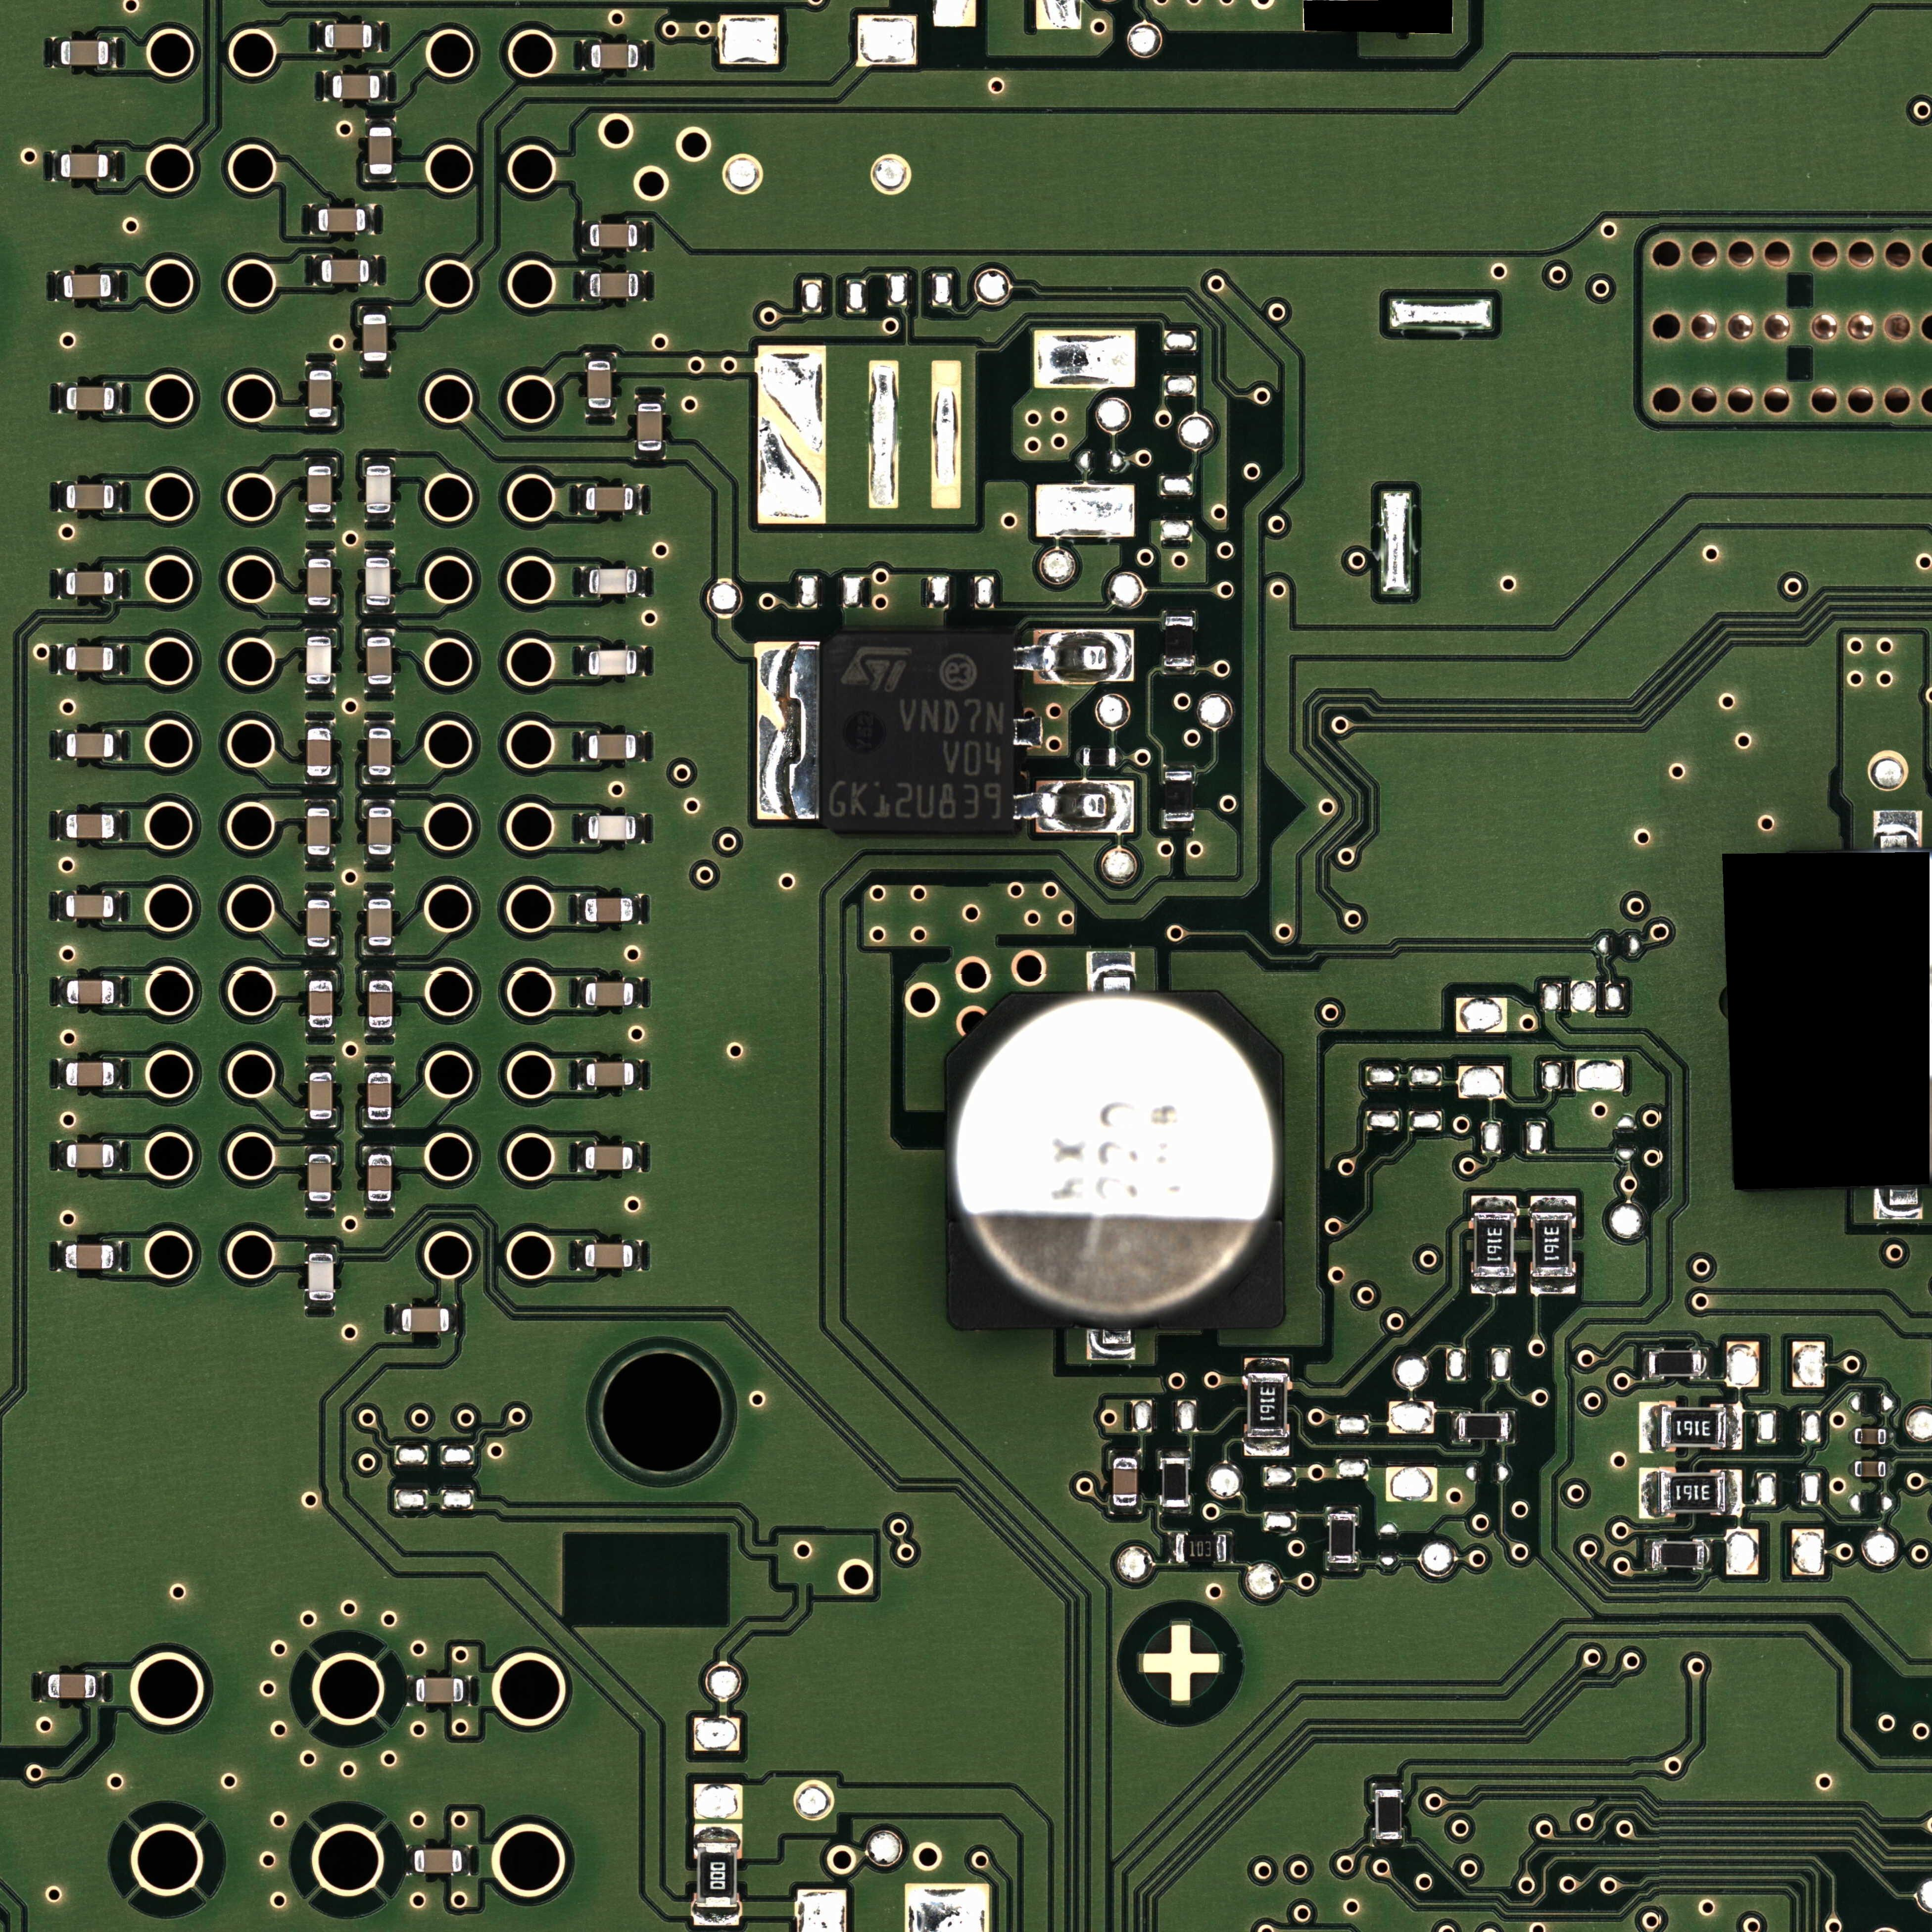Package: (946, 995, 1280, 1327), (818, 636, 1014, 831), (696, 1842, 737, 1908), (1659, 1473, 1726, 1513), (1532, 1212, 1573, 1277), (1247, 1373, 1288, 1438), (1661, 1407, 1726, 1448), (1473, 1213, 1514, 1277), (1165, 617, 1193, 667), (1652, 1542, 1704, 1568), (1175, 1535, 1226, 1562), (1649, 1351, 1701, 1377), (1164, 772, 1192, 821), (1459, 1414, 1508, 1440), (1162, 1458, 1188, 1507), (1376, 1790, 1401, 1839), (589, 273, 638, 298), (1330, 1514, 1355, 1563), (588, 650, 636, 676), (589, 569, 636, 594), (60, 41, 108, 66), (65, 1244, 113, 1269), (588, 734, 636, 760), (306, 636, 332, 684), (366, 466, 391, 513), (325, 24, 372, 49), (416, 1678, 463, 1703), (66, 814, 114, 839), (66, 386, 114, 411), (585, 487, 633, 512), (584, 898, 632, 922), (332, 75, 380, 99), (637, 403, 662, 451), (66, 1062, 114, 1087), (48, 1674, 96, 1699), (66, 647, 113, 672), (366, 558, 390, 605), (66, 484, 114, 509), (66, 733, 114, 758), (591, 44, 638, 69), (307, 728, 332, 776), (67, 1144, 114, 1168), (1112, 1458, 1137, 1505), (321, 259, 369, 284), (589, 224, 637, 248), (63, 274, 111, 298), (60, 154, 108, 178), (585, 1146, 633, 1170), (585, 982, 633, 1007), (588, 816, 635, 840), (367, 637, 391, 684), (67, 980, 114, 1005), (308, 980, 333, 1027), (401, 1308, 449, 1332), (586, 1062, 633, 1086), (309, 1254, 334, 1300), (66, 572, 114, 595), (414, 1849, 462, 1873), (585, 1244, 633, 1268), (307, 559, 332, 606), (368, 899, 392, 946), (368, 808, 392, 855), (367, 1073, 391, 1120), (368, 980, 392, 1027), (66, 895, 113, 918), (318, 208, 365, 232), (368, 728, 391, 776), (363, 315, 387, 361), (307, 466, 332, 513), (368, 128, 392, 174), (368, 1155, 392, 1201), (307, 900, 331, 947), (308, 370, 332, 417), (587, 361, 611, 408), (307, 808, 331, 855), (309, 1072, 333, 1119), (308, 1154, 332, 1201), (1083, 748, 1115, 766), (1855, 1428, 1886, 1445), (1855, 1461, 1886, 1477)
Solder: (757, 641, 819, 820), (1015, 779, 1133, 834), (1016, 629, 1133, 683), (1086, 952, 1136, 990), (1874, 811, 1921, 847), (1875, 1187, 1922, 1219), (1087, 1329, 1135, 1360), (1639, 1401, 1660, 1453), (1640, 1468, 1659, 1518), (694, 1824, 742, 1842), (692, 1908, 740, 1926), (1244, 1439, 1290, 1456), (1530, 1278, 1576, 1295), (1471, 1195, 1517, 1212), (1530, 1196, 1576, 1212), (1471, 1278, 1516, 1294), (1014, 719, 1042, 745), (1727, 1403, 1742, 1450), (1726, 1469, 1742, 1516), (1244, 1357, 1290, 1373), (1325, 1563, 1359, 1572), (305, 970, 336, 980), (372, 22, 383, 51), (364, 970, 394, 980), (1166, 1532, 1176, 1563), (1109, 1505, 1142, 1515), (360, 362, 390, 372), (312, 255, 322, 286), (633, 894, 643, 925), (633, 484, 643, 515), (636, 731, 646, 762), (633, 1142, 643, 1173), (308, 205, 318, 234), (315, 21, 325, 51), (53, 271, 63, 301), (462, 1846, 472, 1876), (38, 1671, 48, 1701), (636, 814, 646, 844), (304, 628, 336, 637), (304, 684, 336, 694), (323, 70, 332, 101), (305, 513, 336, 523), (364, 855, 395, 865), (364, 514, 395, 523), (634, 394, 666, 403), (576, 893, 585, 924), (305, 361, 336, 370), (633, 1241, 642, 1271), (363, 946, 395, 955), (633, 979, 643, 1008), (366, 205, 375, 235), (369, 256, 379, 286), (305, 799, 335, 808), (364, 457, 395, 466), (304, 550, 336, 559), (305, 1028, 337, 1037), (585, 409, 616, 418), (577, 1059, 586, 1090), (1163, 821, 1195, 830), (305, 457, 336, 466), (304, 856, 335, 865), (364, 628, 394, 637), (364, 799, 394, 808), (576, 1240, 585, 1270), (577, 1142, 585, 1172), (1508, 1412, 1517, 1443), (305, 418, 338, 426), (634, 451, 666, 460), (1110, 1449, 1142, 1457), (305, 891, 335, 900), (365, 685, 395, 694), (96, 1672, 105, 1702), (407, 1675, 416, 1705), (114, 382, 123, 414), (364, 175, 396, 183), (304, 776, 336, 784), (363, 776, 395, 784), (304, 947, 336, 956), (305, 1120, 337, 1128), (1159, 1449, 1191, 1457), (634, 1061, 643, 1090), (52, 150, 60, 181), (305, 1146, 336, 1154), (364, 1028, 395, 1037), (580, 730, 588, 762), (360, 306, 390, 314), (57, 383, 66, 414), (57, 729, 66, 760), (305, 1301, 336, 1309), (363, 1146, 394, 1154), (393, 1304, 401, 1334), (364, 1202, 394, 1210), (58, 1140, 66, 1171), (1163, 668, 1194, 676), (1372, 1781, 1403, 1789), (1643, 1540, 1652, 1570), (363, 1120, 395, 1128), (305, 720, 335, 728), (57, 810, 66, 840), (580, 813, 588, 843), (1160, 1507, 1190, 1515), (1704, 1539, 1712, 1571), (52, 38, 60, 67), (366, 118, 395, 127), (380, 71, 388, 101), (364, 891, 394, 899), (305, 1202, 335, 1210), (1226, 1533, 1235, 1562), (111, 270, 119, 301), (305, 606, 336, 614), (363, 606, 394, 614), (305, 1245, 336, 1253), (585, 352, 616, 360), (636, 646, 644, 677), (578, 977, 585, 1008), (1701, 1348, 1709, 1379), (58, 977, 67, 1006), (364, 1064, 395, 1072), (57, 1241, 65, 1271), (581, 221, 589, 251), (1641, 1349, 1649, 1380), (364, 720, 394, 728), (364, 550, 394, 558), (305, 1064, 336, 1072), (58, 1059, 66, 1089), (1163, 764, 1194, 772), (1164, 608, 1195, 616), (583, 40, 591, 70), (582, 271, 590, 300), (114, 729, 121, 761), (114, 1241, 121, 1272), (638, 221, 645, 252), (57, 891, 65, 920), (406, 1845, 414, 1875), (449, 1304, 457, 1334), (1451, 1412, 1458, 1443), (109, 38, 116, 68), (114, 644, 121, 675), (114, 569, 122, 599), (58, 644, 65, 675), (114, 891, 121, 921), (58, 569, 65, 599), (114, 1141, 121, 1171), (464, 1676, 471, 1706), (581, 646, 588, 676), (1327, 1505, 1357, 1512), (58, 482, 66, 511), (114, 1059, 121, 1089), (637, 567, 644, 597), (581, 567, 589, 596), (114, 977, 122, 1006), (1374, 1839, 1403, 1847), (109, 150, 116, 181), (114, 810, 121, 841), (638, 271, 645, 301), (579, 484, 585, 514), (114, 482, 121, 511), (639, 41, 646, 70), (1115, 748, 1122, 767), (1886, 1461, 1893, 1477), (1077, 748, 1083, 766), (1847, 1460, 1854, 1477), (1886, 1429, 1893, 1445), (1849, 1428, 1855, 1444), (1426, 1426, 1434, 1434)
